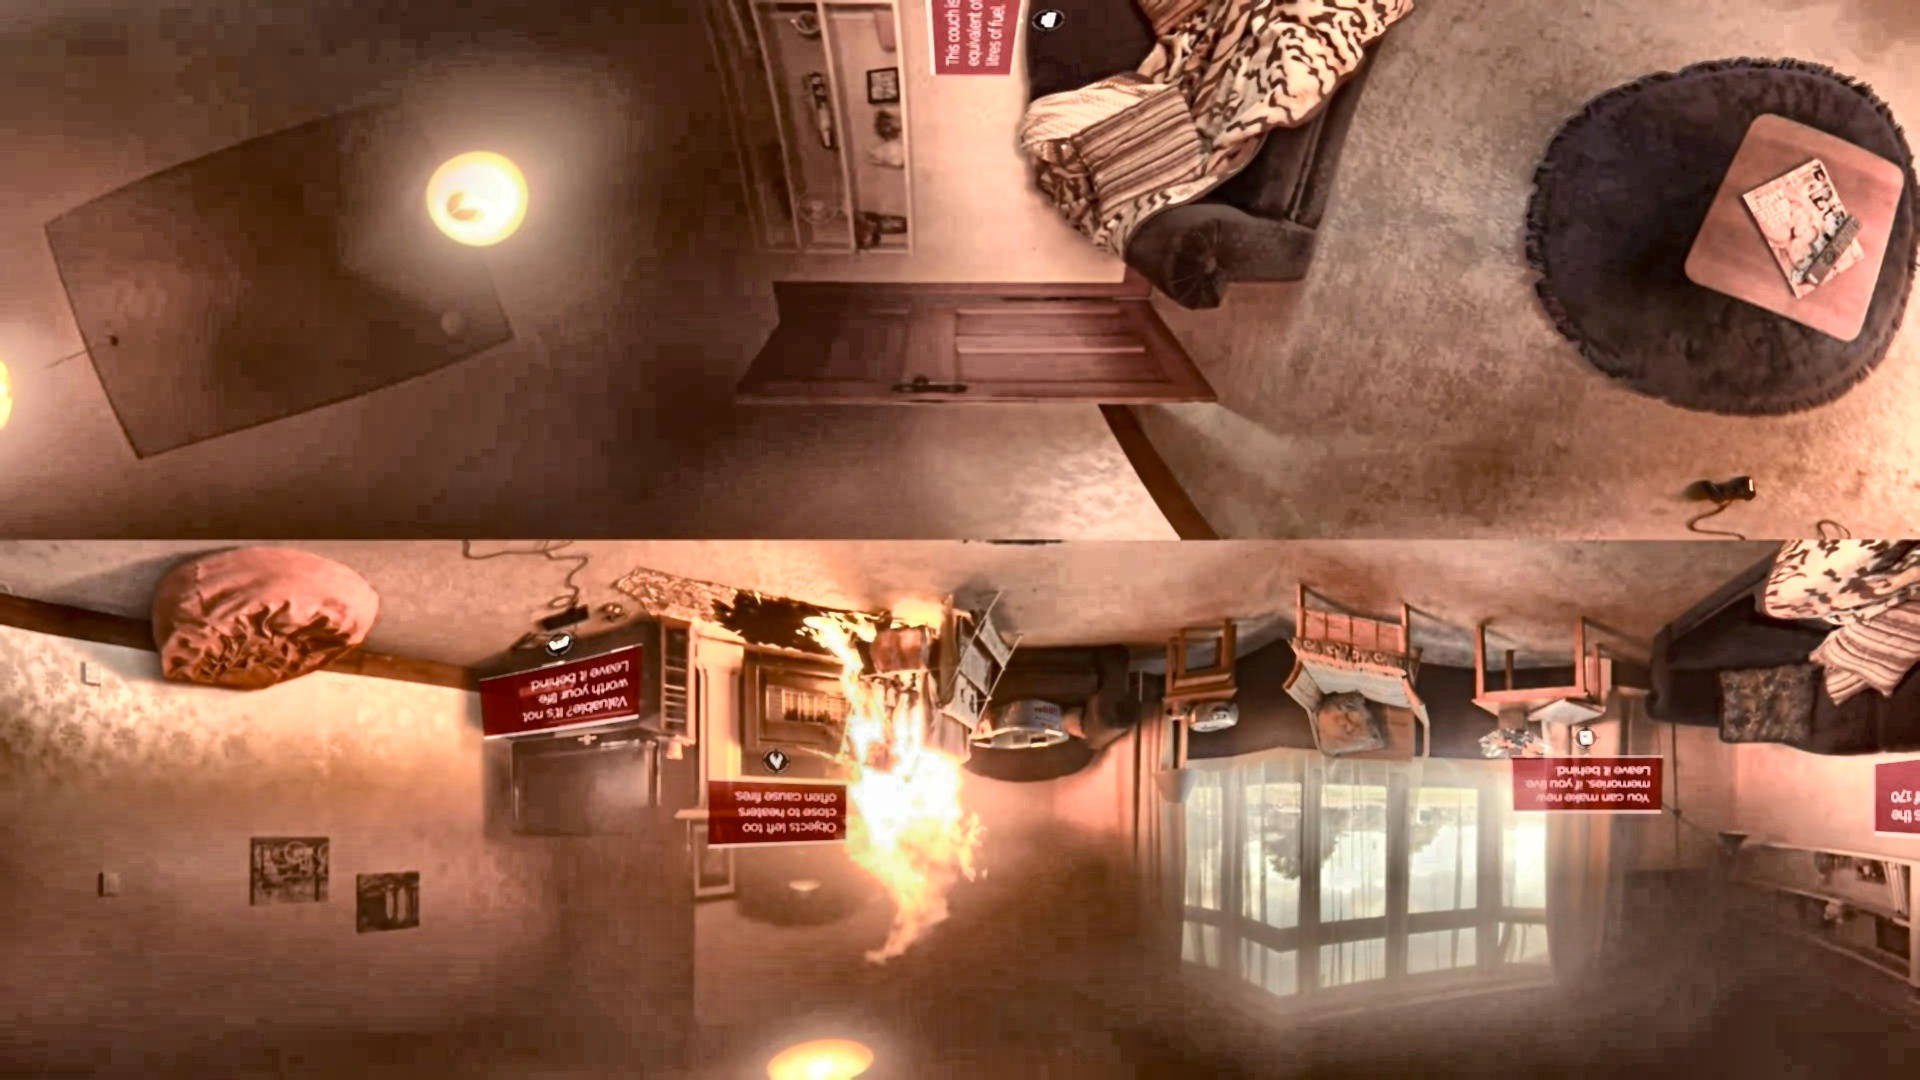fire: (827, 700, 985, 955)
